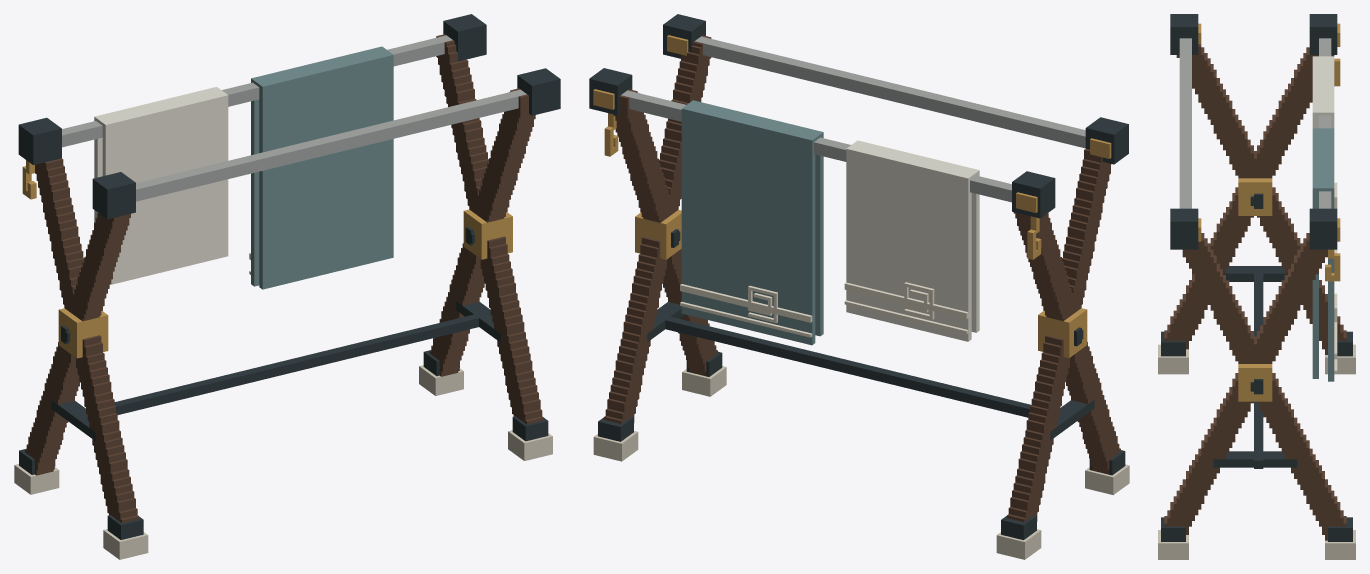
File: LIFE-197.glb
The picture shows the model from 3 angles, left to right: view 1: azimuth 30°, elevation 25°; view 2: azimuth 150°, elevation 25°; view 3: azimuth 270°, elevation 25°; orthographic projection. The views are drawn at different scales.
Visible parts, largest first — view 1: 晾晒架; view 2: 晾晒架; view 3: 晾晒架.
Part boxes in pixels (x1=…): 晾晒架: x1=14, y1=14, x2=560, y2=559; 晾晒架: x1=589, y1=14, x2=1129, y2=559; 晾晒架: x1=1158, y1=14, x2=1355, y2=559.
Size of the model in its own units: 1.59 by 1.23 by 0.64.
Materials: 8 (8 with a texture image).
